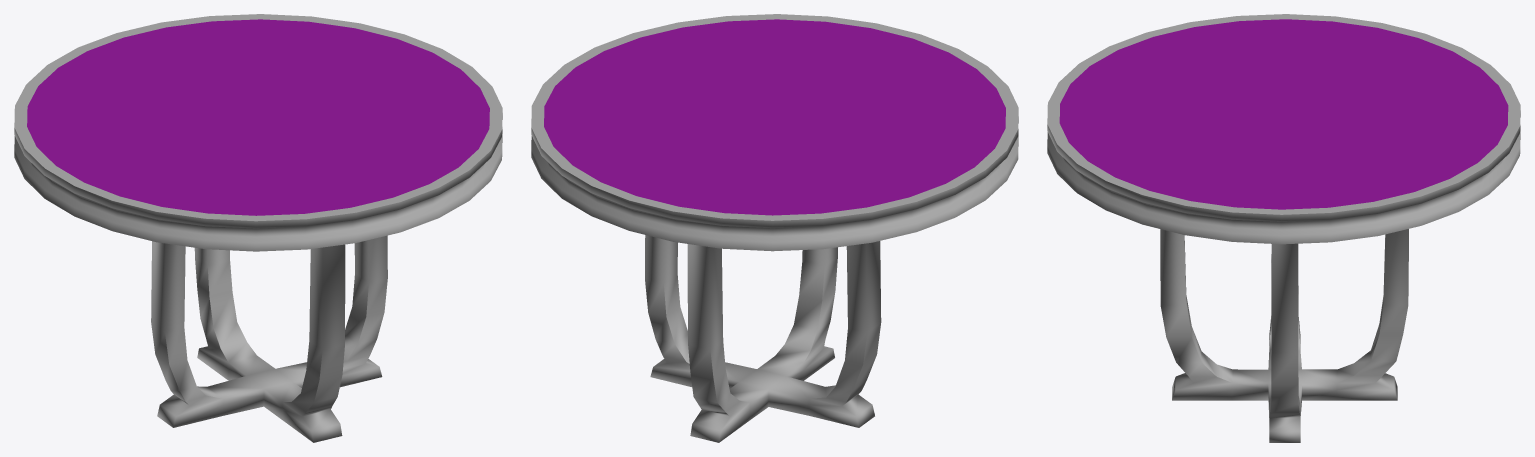
The model's file is Tisch_ver1_Round_LP.fbx.
3 renders of one model, left to right at view 1: azimuth 30°, elevation 25°; view 2: azimuth 150°, elevation 25°; view 3: azimuth 270°, elevation 25°, orthographic. The views are drawn at different scales.
Parts seen in each view (by area): view 1: Tisch2_ROUND_top_LP, Tisch2_ROUND_legs_LP; view 2: Tisch2_ROUND_top_LP, Tisch2_ROUND_legs_LP; view 3: Tisch2_ROUND_top_LP, Tisch2_ROUND_legs_LP.
Boxes of the visible parts, <box> form: Tisch2_ROUND_top_LP: <box>14,14,502,251</box>; Tisch2_ROUND_legs_LP: <box>151,235,387,442</box>; Tisch2_ROUND_top_LP: <box>531,14,1018,251</box>; Tisch2_ROUND_legs_LP: <box>645,235,881,442</box>; Tisch2_ROUND_top_LP: <box>1047,14,1520,244</box>; Tisch2_ROUND_legs_LP: <box>1160,229,1408,442</box>.
Bounding box in the file's own units: 1.28 × 0.8125 × 1.27.
